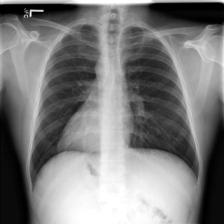normal: (27, 20, 203, 194)
